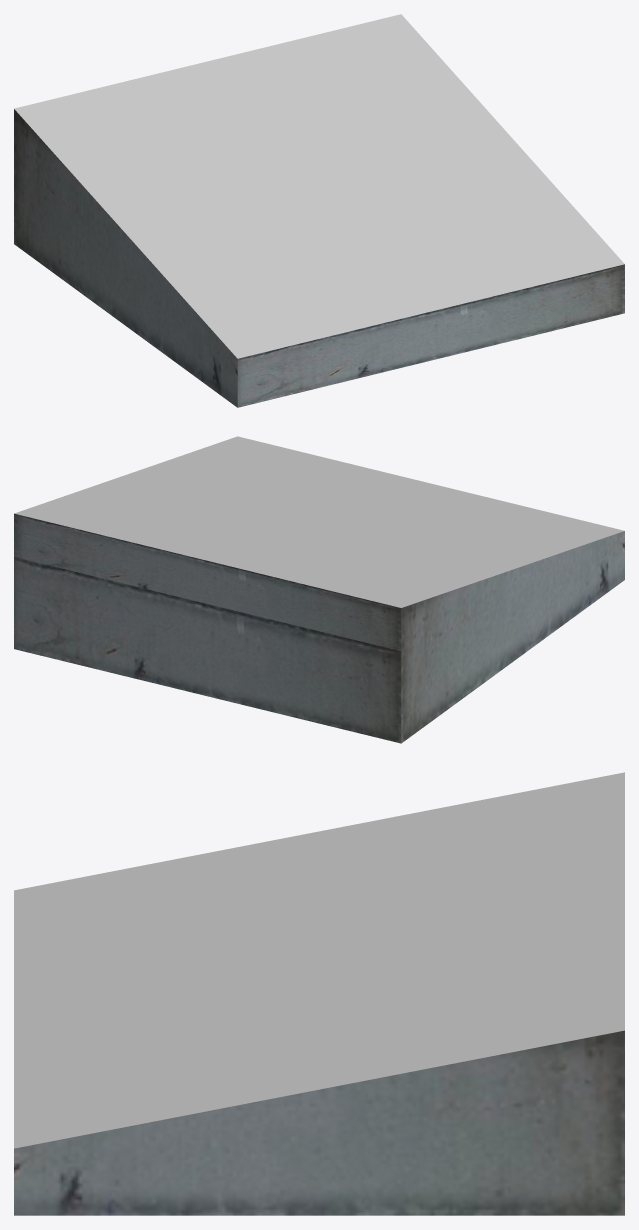
The model's file is roof_window5.fbx.
3 views of the same model, one above another, from view 1: azimuth 30°, elevation 25°; view 2: azimuth 150°, elevation 25°; view 3: azimuth 270°, elevation 25° (orthographic). The views are drawn at different scales.
Visible parts, largest first — view 1: roof_window5; view 2: roof_window5; view 3: roof_window5.
Part boxes in pixels (x1,y1,x2,y2): roof_window5: (14, 14, 624, 407); roof_window5: (14, 436, 624, 743); roof_window5: (14, 772, 624, 1215).
Size of the model in its own units: 173 by 57.88 by 173.
